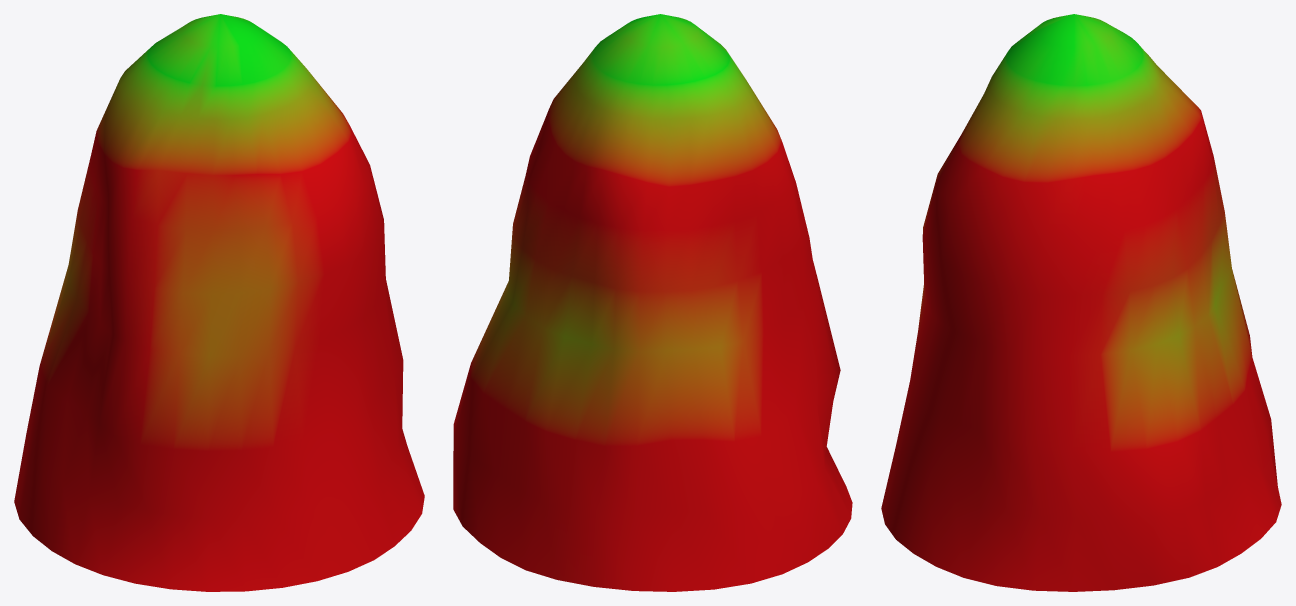
The model's file is AO Boulder Tall.fbx.
3 views of the same model, side by side, from view 1: azimuth 30°, elevation 25°; view 2: azimuth 150°, elevation 25°; view 3: azimuth 270°, elevation 25° (orthographic).
Parts seen in each view (by area): view 1: Boulder Tall; view 2: Boulder Tall; view 3: Boulder Tall.
Part boxes in pixels (x1,y1,x2,y2): Boulder Tall: (14, 14, 424, 591); Boulder Tall: (453, 14, 852, 591); Boulder Tall: (881, 14, 1281, 591).
Size of the model in its own units: 592 by 808 by 593.
